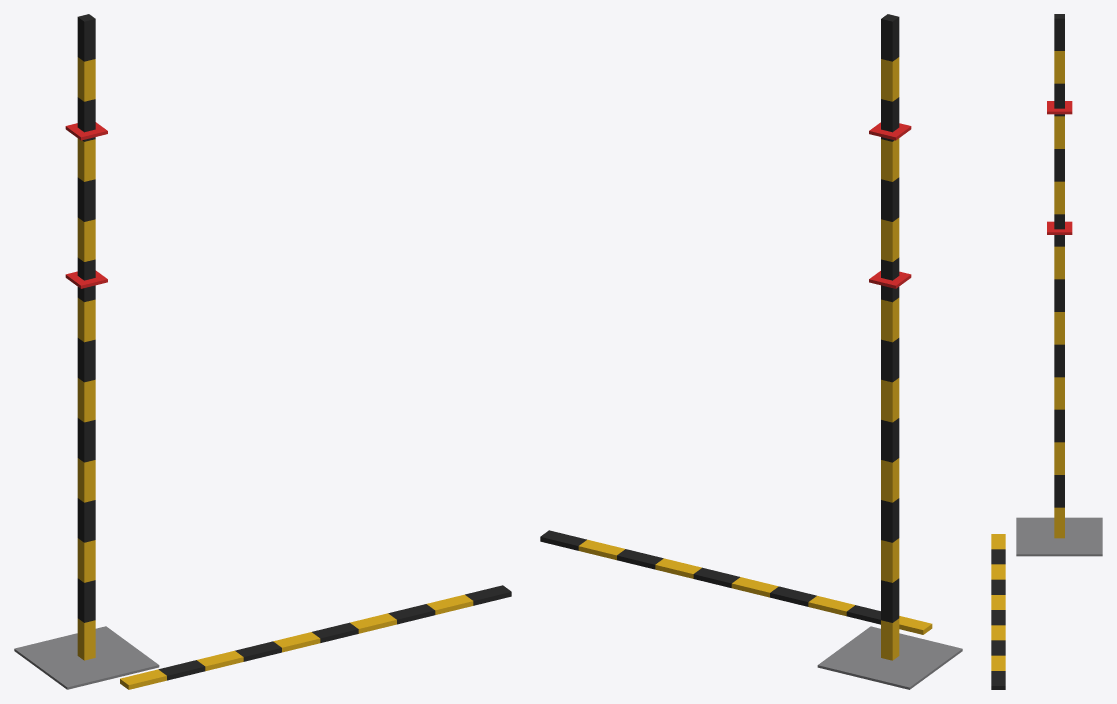
Rendered from agrypnia_regla.glb.
3 renders of one model, left to right at view 1: azimuth 30°, elevation 25°; view 2: azimuth 150°, elevation 25°; view 3: azimuth 270°, elevation 25°, orthographic. The views are drawn at different scales.
Visible parts, largest first — view 1: regla_amarillo, regla_negro, regla_base, regla_rojo; view 2: regla_amarillo, regla_negro, regla_base, regla_rojo; view 3: regla_negro, regla_amarillo, regla_base, regla_rojo.
Part boxes in pixels (x1,y1,x2,y2): regla_amarillo: (77, 57, 473, 689); regla_negro: (77, 14, 511, 680); regla_base: (14, 626, 159, 689); regla_rojo: (65, 122, 107, 288); regla_amarillo: (578, 57, 932, 660); regla_negro: (540, 14, 899, 624); regla_base: (817, 626, 962, 689); regla_rojo: (869, 122, 911, 288); regla_negro: (991, 14, 1064, 689); regla_amarillo: (991, 51, 1064, 670); regla_base: (1016, 517, 1102, 556); regla_rojo: (1047, 101, 1072, 234).
Size of the model in its own units: 1.12 by 1.6 by 0.31.
